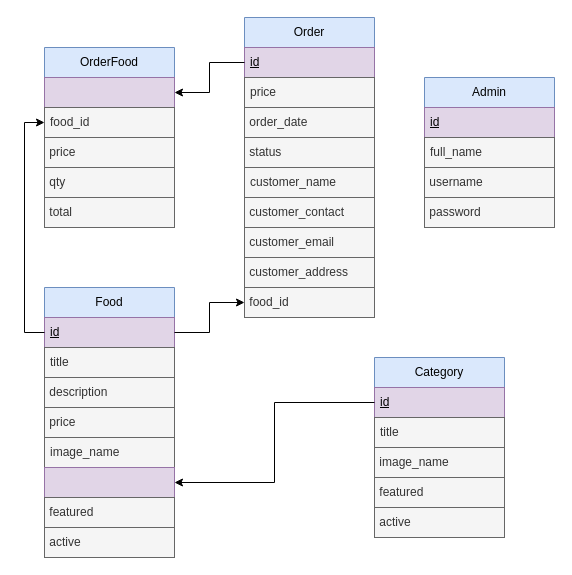
This 572x575 diagram has some shape labels left out. Each missing label, with the centre of its shape:
category_id: the point at 109,482
order_id: the point at 109,92
